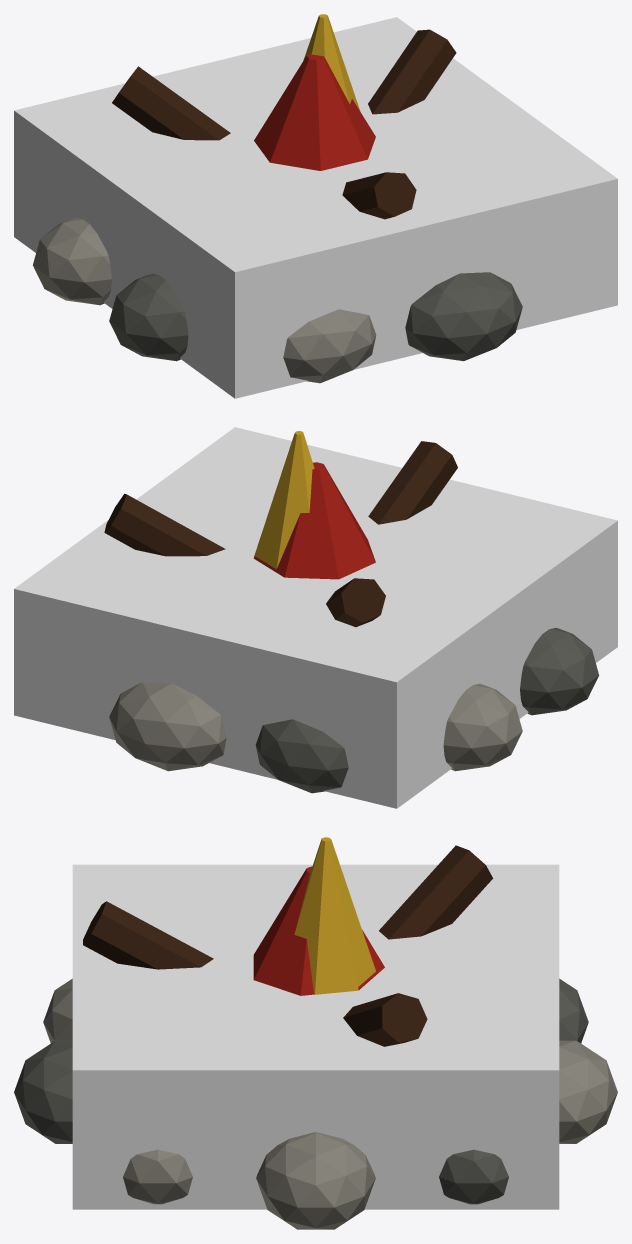
Rendered from Campfire.fbx.
3 views of the same model, one above another, from view 1: azimuth 30°, elevation 25°; view 2: azimuth 150°, elevation 25°; view 3: azimuth 270°, elevation 25° (orthographic). The views are drawn at different scales.
Parts seen in each view (by area): view 1: COL_Campfire_0, Campfire; view 2: COL_Campfire_0, Campfire; view 3: COL_Campfire_0, Campfire.
Boxes of the visible parts, box(x1,y1,x2,y2) form: COL_Campfire_0: box(14, 17, 617, 398); Campfire: box(33, 14, 522, 383); COL_Campfire_0: box(14, 427, 617, 808); Campfire: box(104, 431, 599, 793); COL_Campfire_0: box(72, 864, 559, 1209); Campfire: box(14, 837, 617, 1229).
Bounding box in the file's own units: 1.2 × 0.619 × 1.18.
